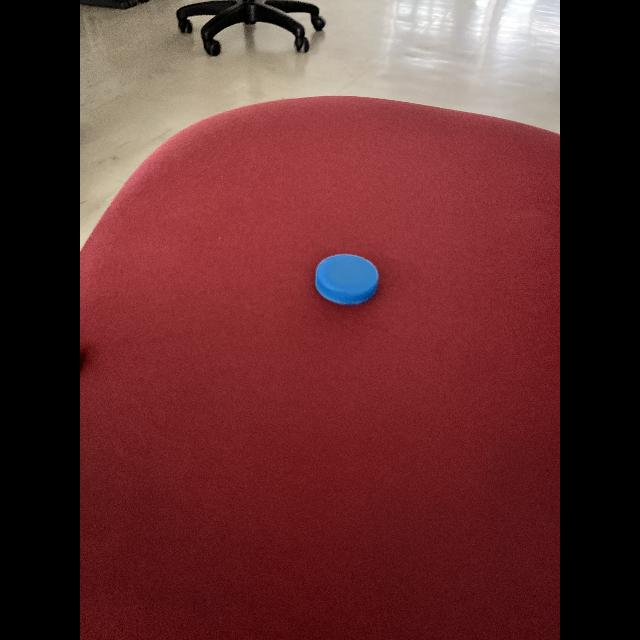plastic_bottle_cap: (307, 252, 381, 306)
